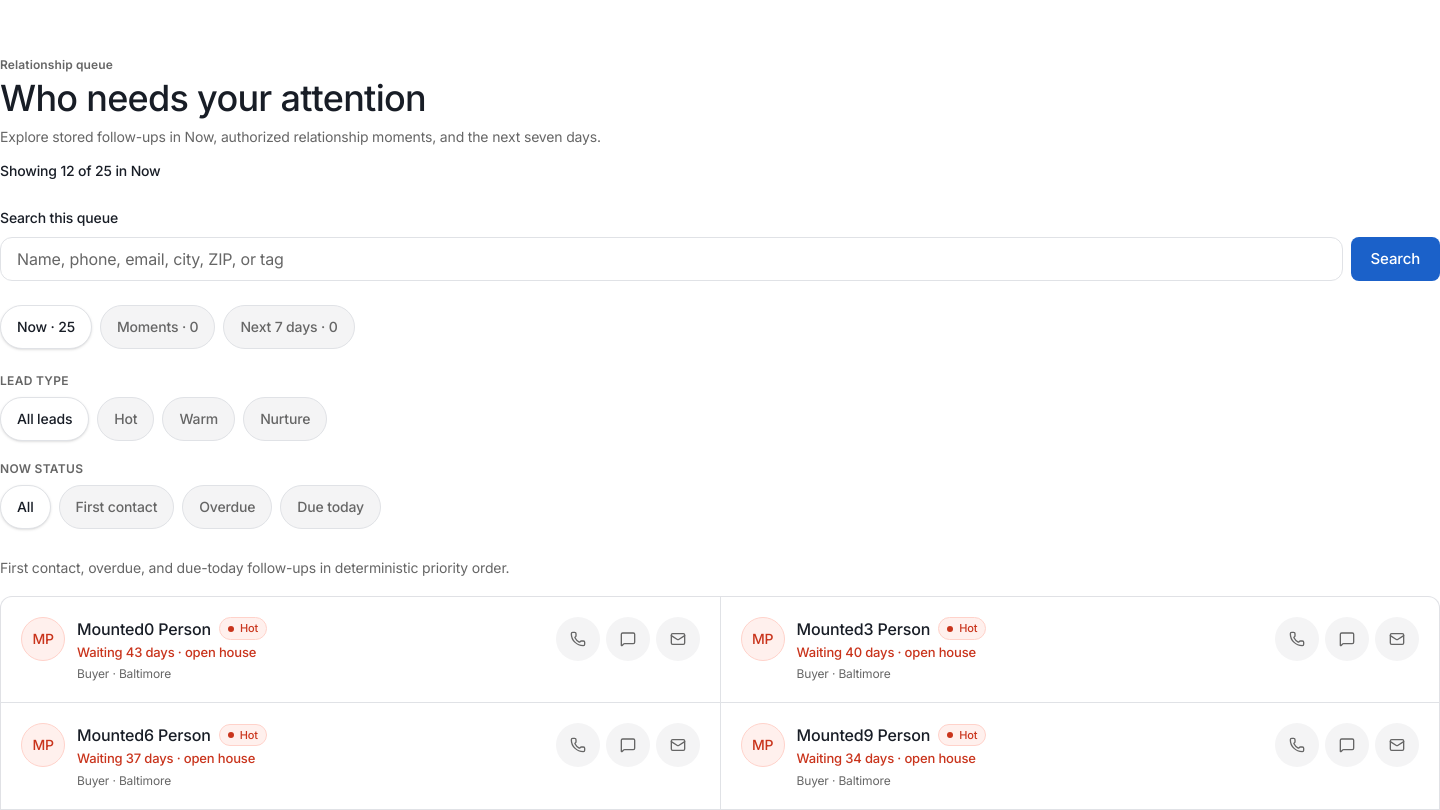
RelationshipQueue mounted interactions › recovers populated no-results through Clear search and updates the live region
The width and height of the screenshot is (1440, 810).
In the field labelled "Search this queue": (671, 259) 0,237 -> 1343,281, type "not-present"
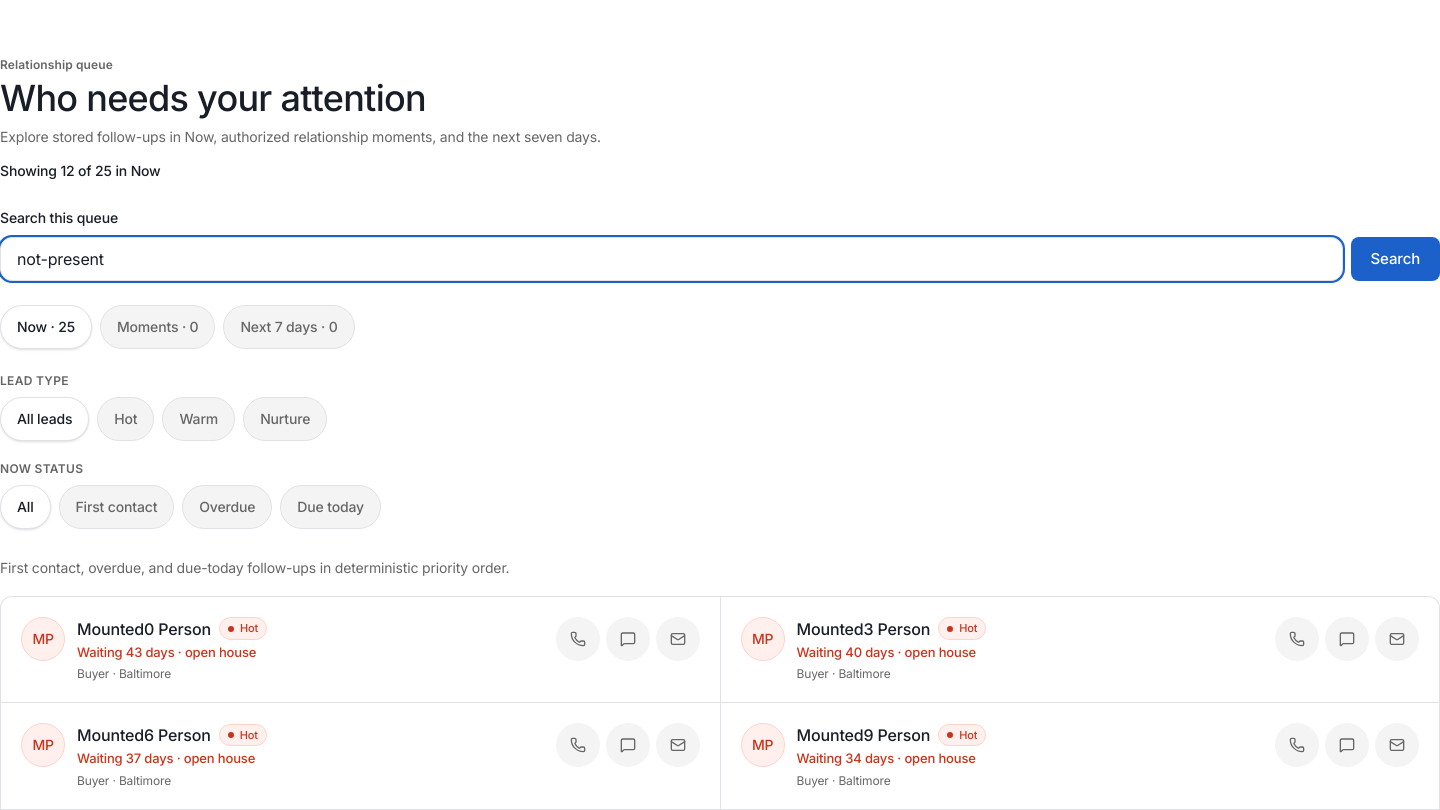
Click the button "Search": (1395, 259) 1351,237 -> 1439,281
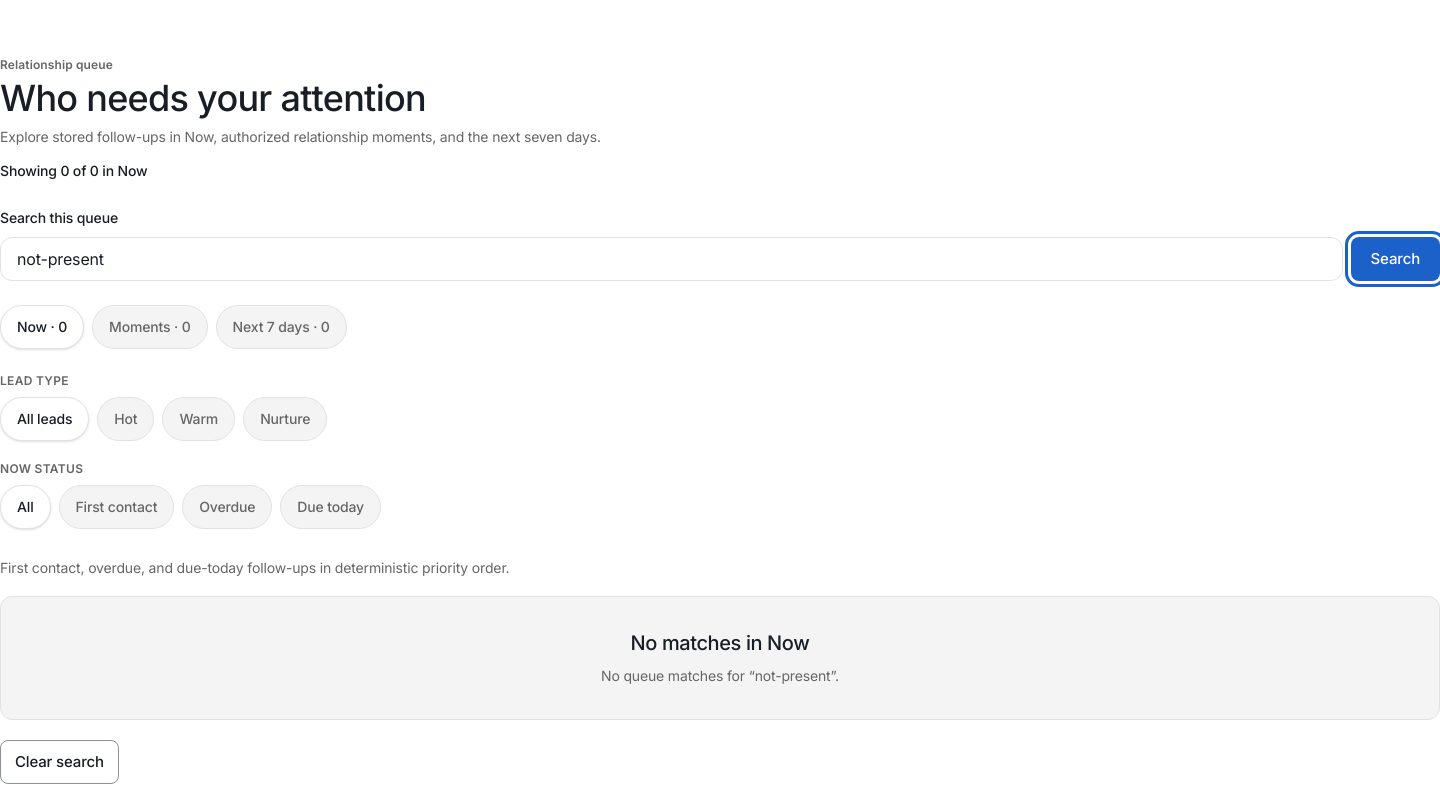
Result: the heading "No matches in Now" is shown at 631,630 -> 809,654
Click the button "Clear search": (59, 762) 0,740 -> 119,784
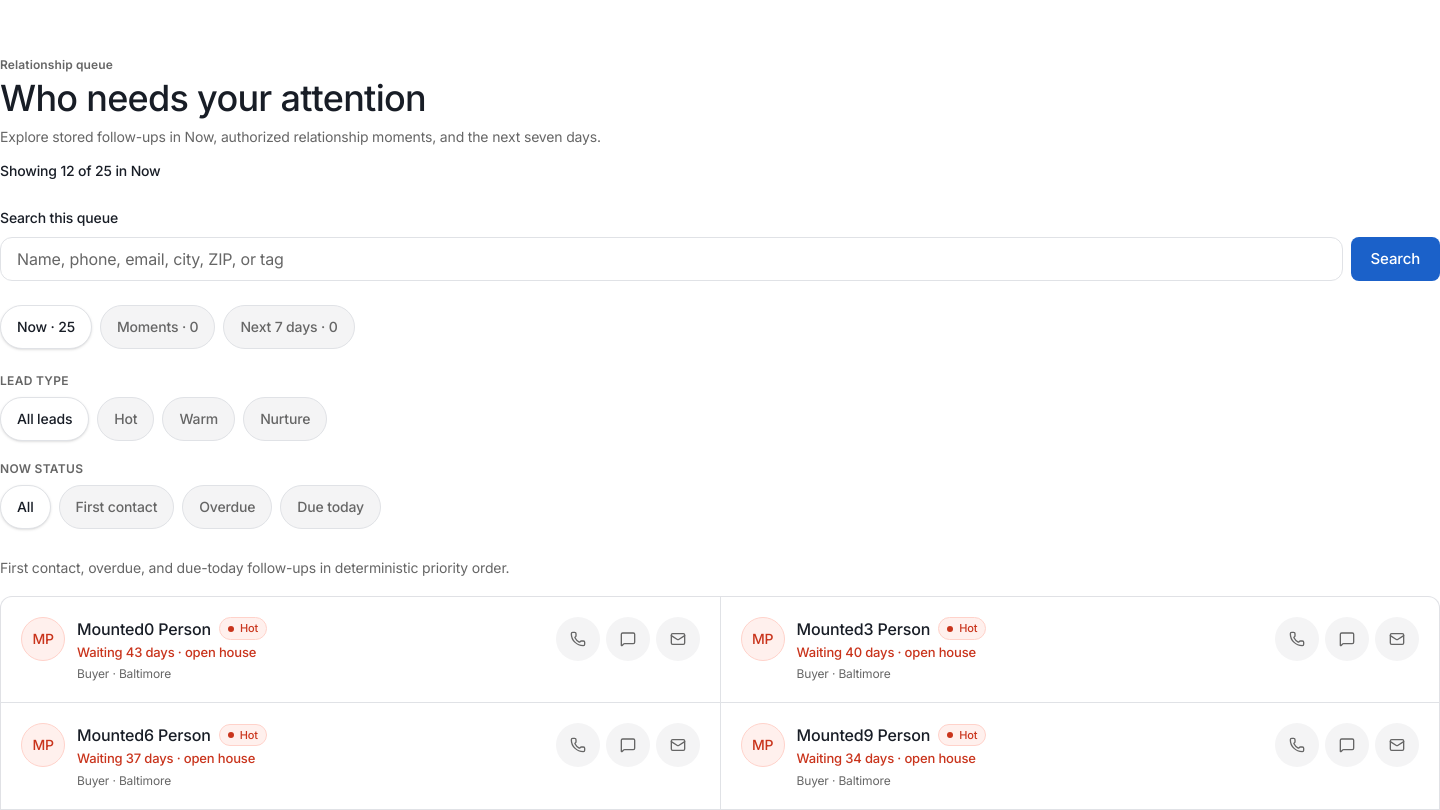
Result: the field labelled "Search this queue" is empty at 0,237 -> 1343,281
Result: the heading "No matches in Now" is gone
